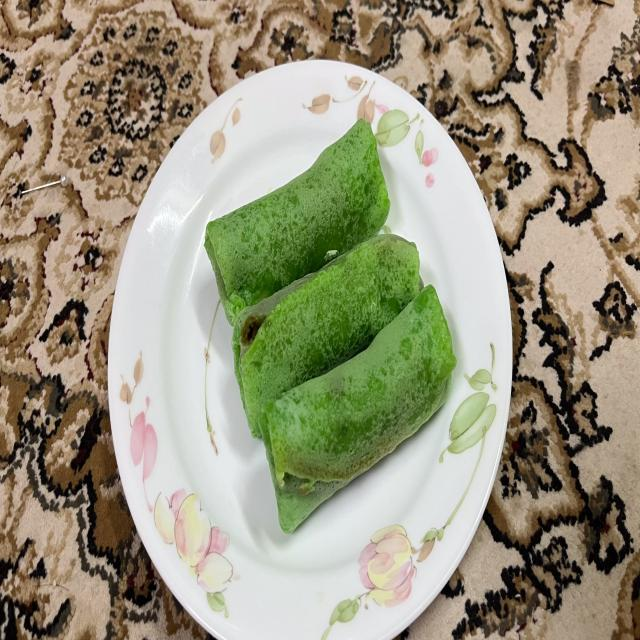Kuih-Ketayap: (259, 287, 456, 533), (232, 233, 421, 436), (205, 120, 390, 324)
